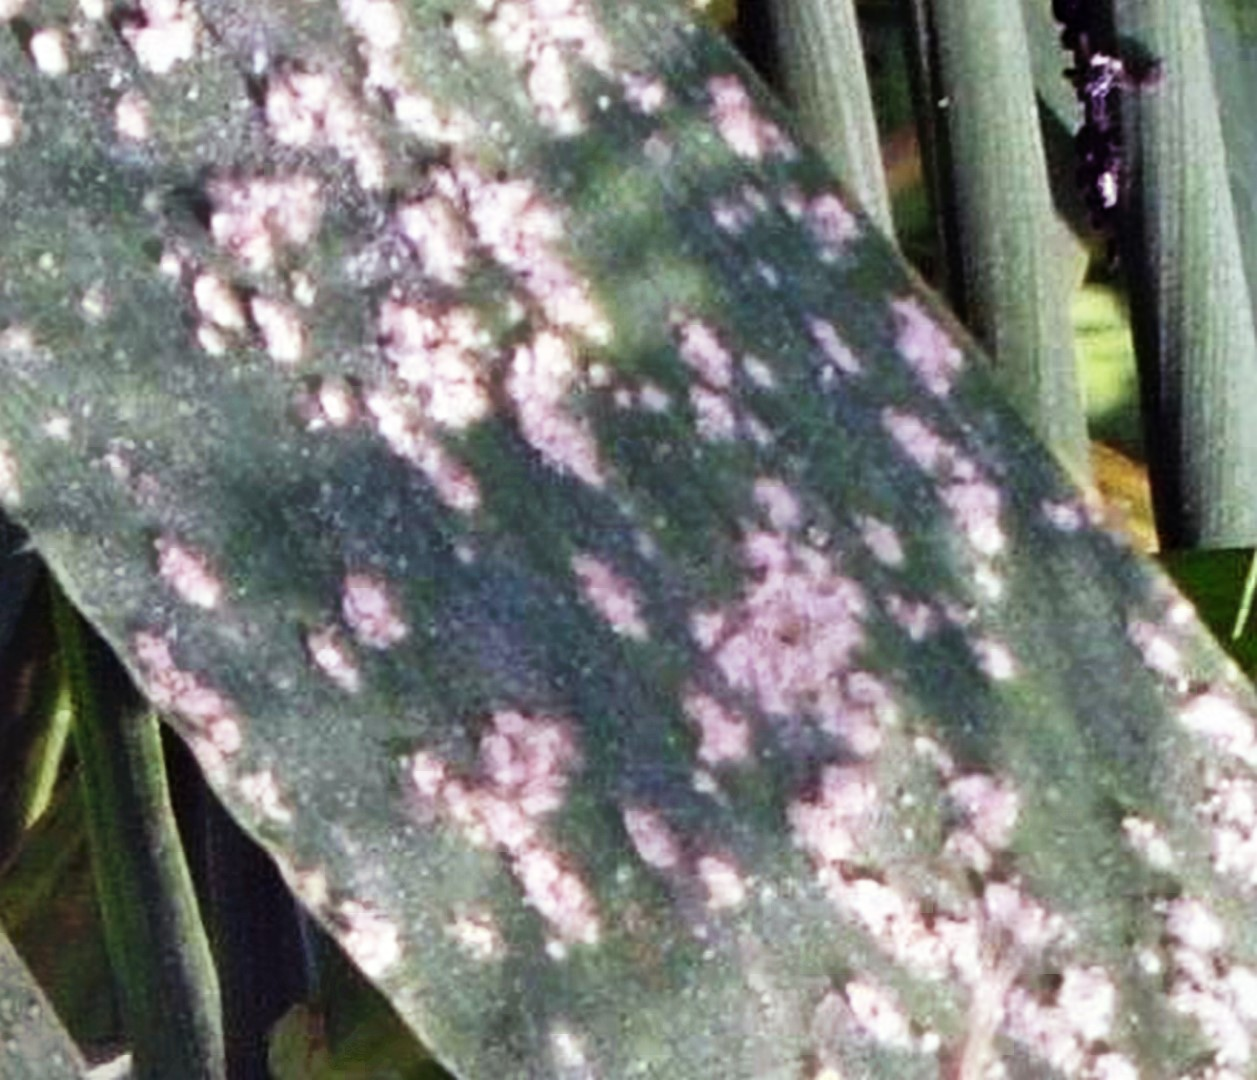Powdery Mildew: (86, 117, 1129, 1039)
